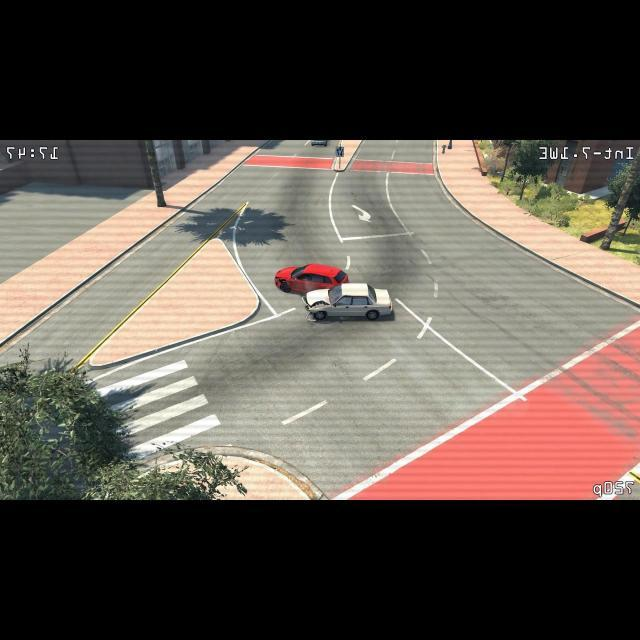moderate: (274, 261, 397, 324)
